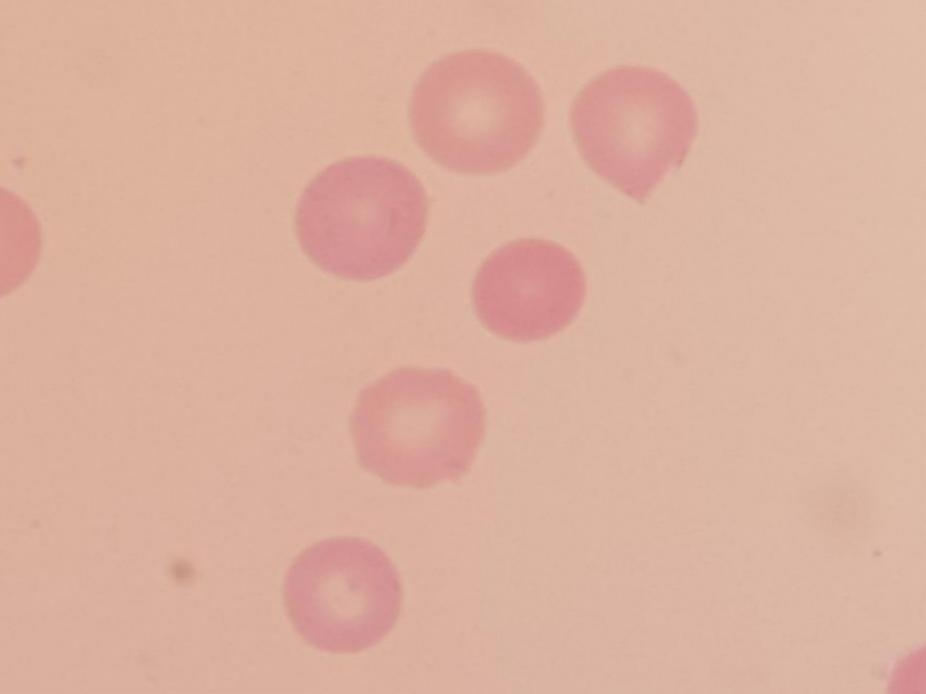Uninfected: (570, 64, 700, 211), (410, 47, 543, 177), (295, 159, 428, 286), (348, 366, 484, 488), (282, 536, 407, 654), (473, 236, 589, 341)
